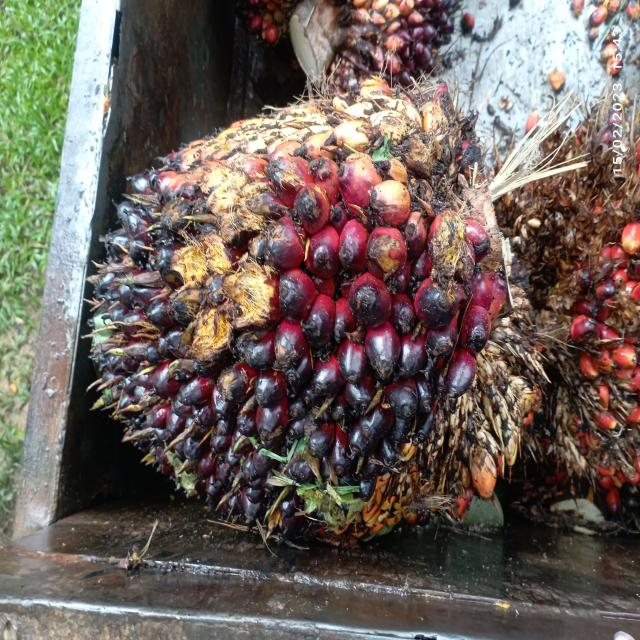fraksi 00: (60, 81, 520, 548)
